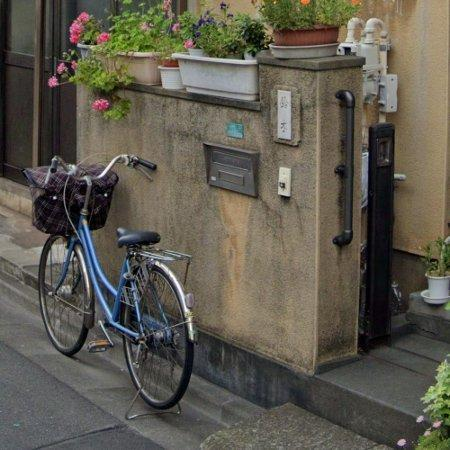bicycles: (26, 155, 195, 410)
